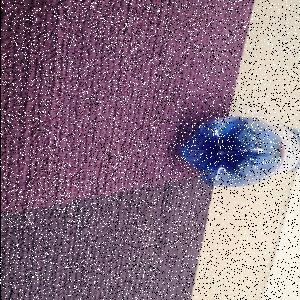Plastic-bottle: (180, 116, 300, 189)
